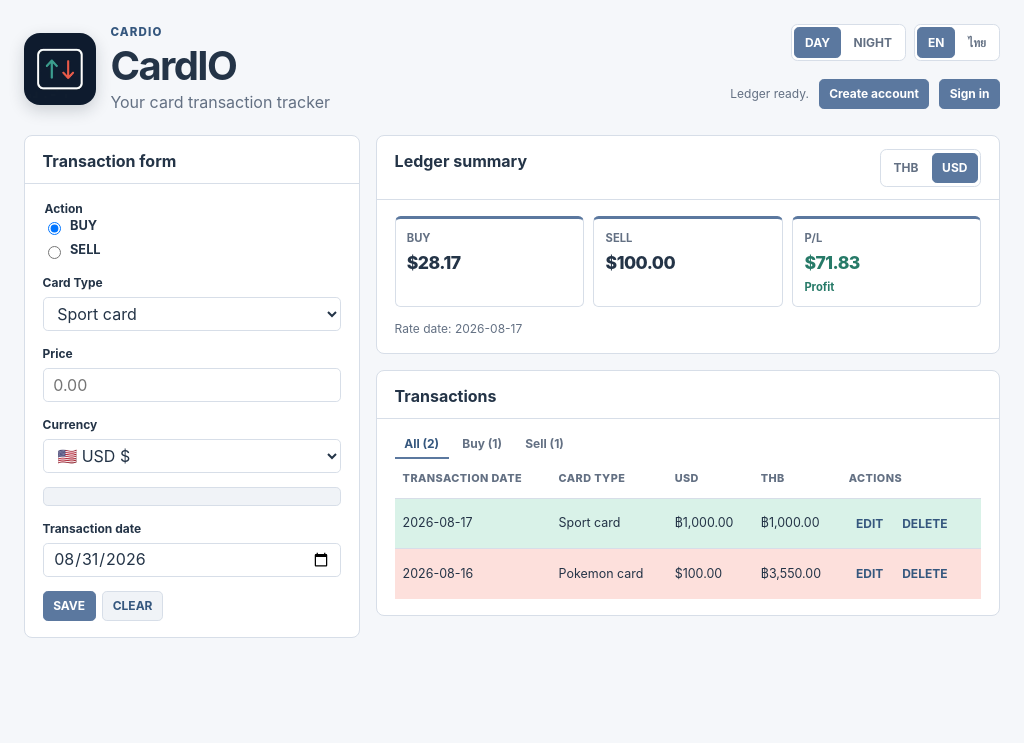
Test case: App › shows only the create-account panel when create account is clicked from sign-in
The width and height of the screenshot is (1024, 743).
Check: the heading "CardIO" is shown, box top-left (110, 41), bottom-right (236, 90)
Click the button "Sign in" at (970, 94), box top-left (939, 79), bottom-right (1000, 109)
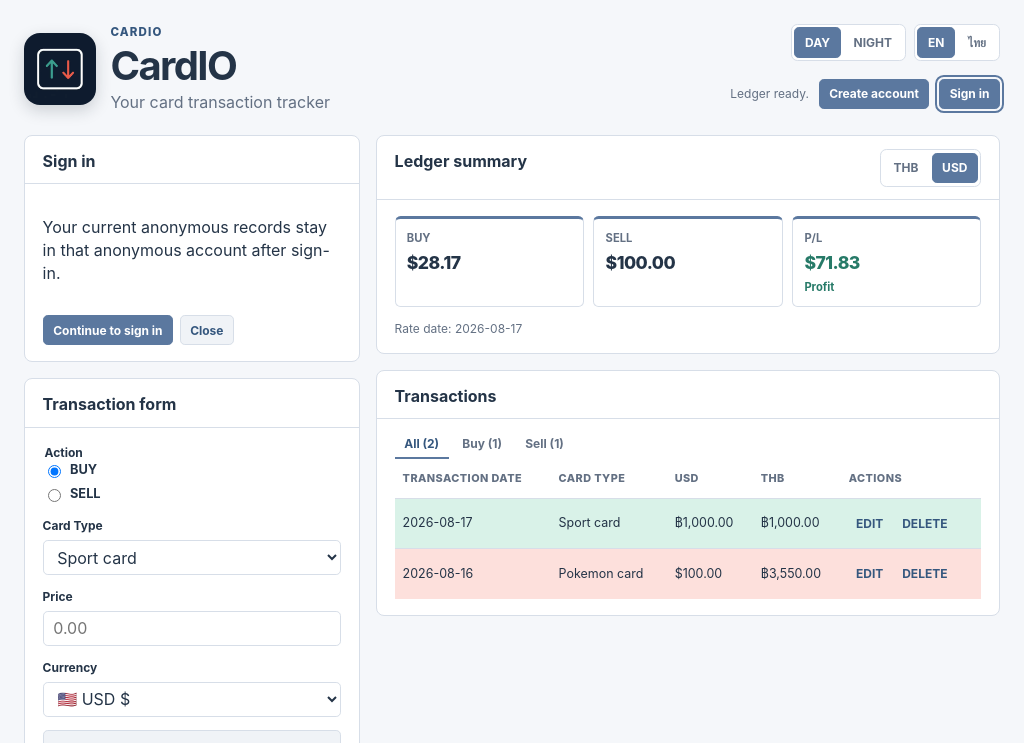
Check: the element "Sign in" is shown, box top-left (24, 135), bottom-right (360, 362)
Click the button "Create account" at (874, 94), box top-left (818, 79), bottom-right (930, 109)
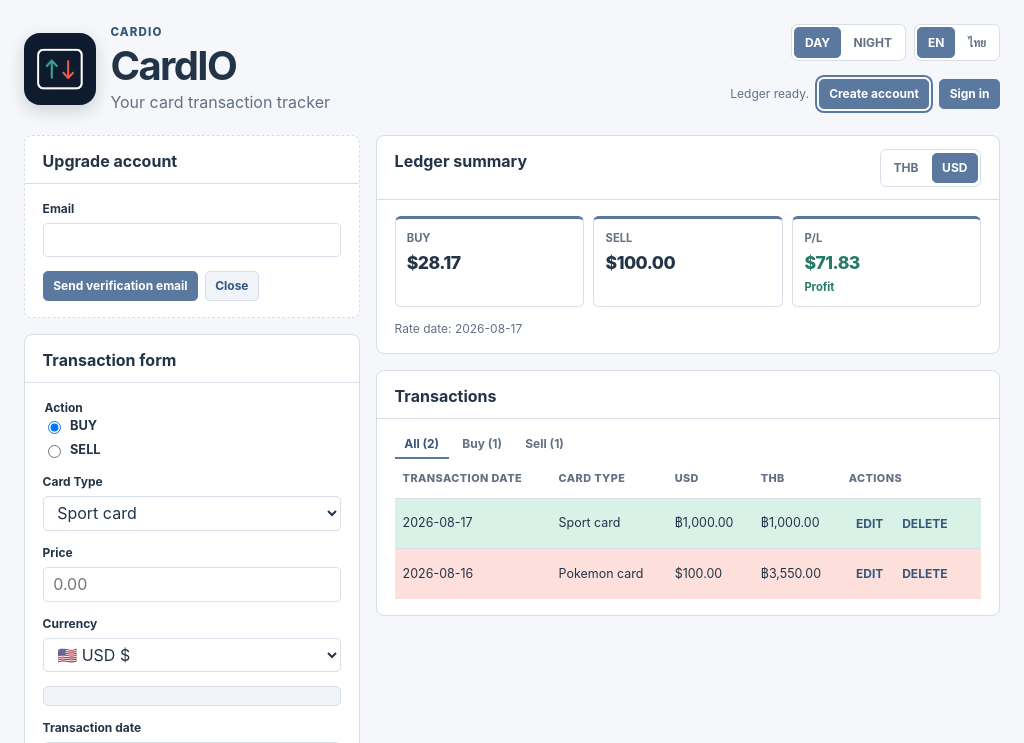
Check: the element "Upgrade account" is shown, box top-left (24, 135), bottom-right (360, 318)
